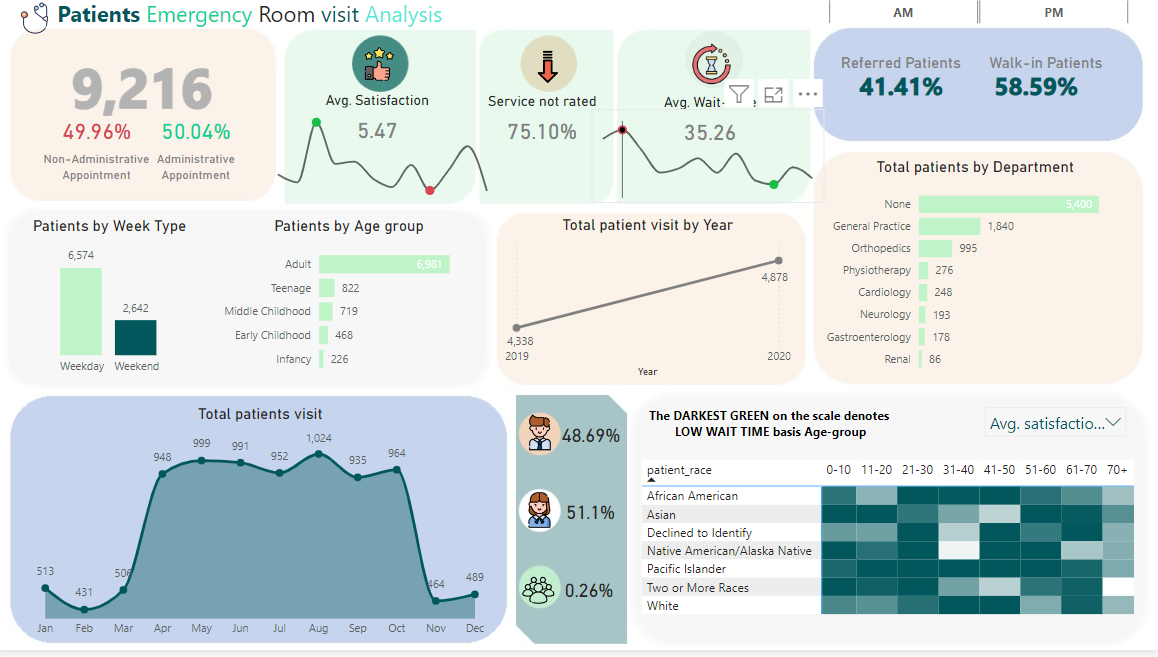

This screenshot's page, from the dashboard's own definition file:
{"tool":"powerbi","page":{"name":"Page 1","canvas":[1280,720],"ordinal":0},"visuals":[{"type":"card","fields":{"Values":["Calculations.Total patients"]},"box":[59,48,207.2,102.9],"z":0},{"type":"card","fields":{"Values":["Calculations.% administrative schedule"]},"box":[167.4,128,108.4,45.3],"z":1000},{"type":"card","fields":{"Values":["Calculations.% non-administrative schedule"]},"box":[59,128,108.4,45.3],"z":2000},{"type":"pivotTable","fields":{"Values":["Calculations.Avg. satisfaction score"],"Rows":["Patient dataset.patient_race"],"Columns":["Patient dataset.Age bucket"]},"box":[706.7,506.3,564,194.9],"z":3000},{"type":"slicer","fields":{"Values":["Parameter.Parameter"]},"box":[1077.2,443.2,175.6,52.1],"z":4000},{"type":"clusteredBarChart","title":"Patients by Age group","fields":{"Category":["Patient dataset.Age group"],"Y":["Calculations.Total patients"]},"box":[240.1,244.3,299.1,182.5],"z":5000},{"type":"lineChart","title":"Total patients visit","fields":{"Category":["Date.Month"],"Y":["Calculations.Total patients"]},"box":[34.3,450.1,516,264.8],"z":6000},{"type":"lineChart","title":"Total patient visit by Year","fields":{"Y":["Calculations.Total patients"],"Category":["Date.Year"]},"box":[555.7,242.9,323.8,182.5],"z":7000},{"type":"clusteredBarChart","title":"Total patients by Department","fields":{"Y":["Calculations.Total patients"],"Category":["Patient dataset.department_referral"]},"box":[901.5,179.8,351.3,245.6],"z":8000},{"type":"card","fields":{"Values":["Calculations.% Referred Patients"]},"box":[935.9,74.5,120.8,56.3],"z":9000},{"type":"card","fields":{"Values":["Calculations.% Unreferred Patients"]},"box":[1081.3,77.2,126.2,50.8],"z":10000},{"type":"card","fields":{"Values":["Calculations.HeatMap caption"]},"box":[687.5,437.7,330.7,68.6],"z":11000},{"type":"textbox","box":[167.4,166,108.4,53.5],"z":12000},{"type":"textbox","box":[43.9,166,137.2,53.5],"z":13000},{"type":"card","title":"Avg. Satisfaction","fields":{"Values":["Calculations.Avg. satisfaction score"]},"box":[358.1,106.4,124.9,65.9],"z":14000},{"type":"card","title":"Avg. Wait-time","fields":{"Values":["Calculations.Average wait-time"]},"box":[720.4,110.1,131.7,65.9],"z":15000},{"type":"card","title":"Service not rated","fields":{"Values":["Calculations.% no satscore"]},"box":[529.7,108.8,144.1,65.9],"z":16000},{"type":"textbox","box":[1063.5,60.4,182.5,53.5],"z":17000},{"type":"textbox","box":[922.1,60.4,146.8,53.5],"z":18000},{"type":"clusteredColumnChart","title":"Patients by Week Type","fields":{"Y":["Calculations.Total patients"],"Category":["Date.WeekType"]},"box":[13.7,244.3,226.4,182.5],"z":19000},{"type":"slicer","fields":{"Values":["Patient dataset.am/pm"]},"box":[890.6,0,378.7,37],"z":20000},{"type":"card","fields":{"Values":["Calculations.% NC visits"]},"box":[610.6,635.3,85.1,38.4],"z":21000},{"type":"card","fields":{"Values":["Calculations.% Male visits"]},"box":[609.3,543.4,90.6,50.8],"z":22000},{"type":"card","fields":{"Values":["Calculations.% Female visits"]},"box":[610.6,461.1,89.2,46.7],"z":23000},{"type":"lineChart","fields":{"Category":["Date.Month"],"Y":["Calculations.Avg. satisfaction score"]},"box":[303.3,122.1,247,107],"z":24000},{"type":"lineChart","fields":{"Y":["Calculations.Average wait-time"],"Category":["Date.Month"]},"box":[655.9,126.2,255.2,102.9],"z":25000},{"type":"image","box":[579,58,57.6,45.3],"z":26000},{"type":"image","box":[756.1,47.1,63.1,60.4],"z":27000},{"type":"image","box":[396.6,53.5,53.5,46.7],"z":28000},{"type":"image","box":[575,456.9,49.4,49.4],"z":29000},{"type":"image","box":[573.6,542,50.8,49.4],"z":30000},{"type":"image","box":[574.1,630.2,48,49.4],"z":31000},{"type":"image","box":[22,0,45.3,53.5],"z":32000},{"type":"textbox","box":[64.5,0,441.9,48],"z":33000}]}

Visuals, with their boxes in screenshot pixels (x1, y1, x2, y2), scaled from the page's 1280x720 canvas onto the 1158x657 screenshot:
card - Calculations.Total patients: x1=53, y1=44, x2=241, y2=138
card - Calculations.% administrative schedule: x1=151, y1=117, x2=250, y2=158
card - Calculations.% non-administrative schedule: x1=53, y1=117, x2=151, y2=158
pivotTable - Calculations.Avg. satisfaction score x Patient dataset.patient_race: x1=639, y1=462, x2=1150, y2=640
slicer - Parameter.Parameter: x1=975, y1=404, x2=1133, y2=452
"Patients by Age group" clusteredBarChart: x1=217, y1=223, x2=488, y2=389
"Total patients visit" lineChart: x1=31, y1=411, x2=498, y2=652
"Total patient visit by Year" lineChart: x1=503, y1=222, x2=796, y2=388
"Total patients by Department" clusteredBarChart: x1=816, y1=164, x2=1133, y2=388
card - Calculations.% Referred Patients: x1=847, y1=68, x2=956, y2=119
card - Calculations.% Unreferred Patients: x1=978, y1=70, x2=1092, y2=117
card - Calculations.HeatMap caption: x1=622, y1=399, x2=921, y2=462
textbox: x1=151, y1=151, x2=250, y2=200
textbox: x1=40, y1=151, x2=164, y2=200
"Avg. Satisfaction" card: x1=324, y1=97, x2=437, y2=157
"Avg. Wait-time" card: x1=652, y1=100, x2=771, y2=161
"Service not rated" card: x1=479, y1=99, x2=610, y2=159
textbox: x1=962, y1=55, x2=1127, y2=104
textbox: x1=834, y1=55, x2=967, y2=104
"Patients by Week Type" clusteredColumnChart: x1=12, y1=223, x2=217, y2=389
slicer - Patient dataset.am/pm: x1=806, y1=0, x2=1148, y2=34
card - Calculations.% NC visits: x1=552, y1=580, x2=629, y2=615
card - Calculations.% Male visits: x1=551, y1=496, x2=633, y2=542
card - Calculations.% Female visits: x1=552, y1=421, x2=633, y2=463
lineChart - Date.Month x Calculations.Avg. satisfaction score: x1=274, y1=111, x2=498, y2=209
lineChart - Calculations.Average wait-time x Date.Month: x1=593, y1=115, x2=824, y2=209
image: x1=524, y1=53, x2=576, y2=94
image: x1=684, y1=43, x2=741, y2=98
image: x1=359, y1=49, x2=407, y2=91
image: x1=520, y1=417, x2=565, y2=462
image: x1=519, y1=495, x2=565, y2=540
image: x1=519, y1=575, x2=563, y2=620
image: x1=20, y1=0, x2=61, y2=49
textbox: x1=58, y1=0, x2=458, y2=44
